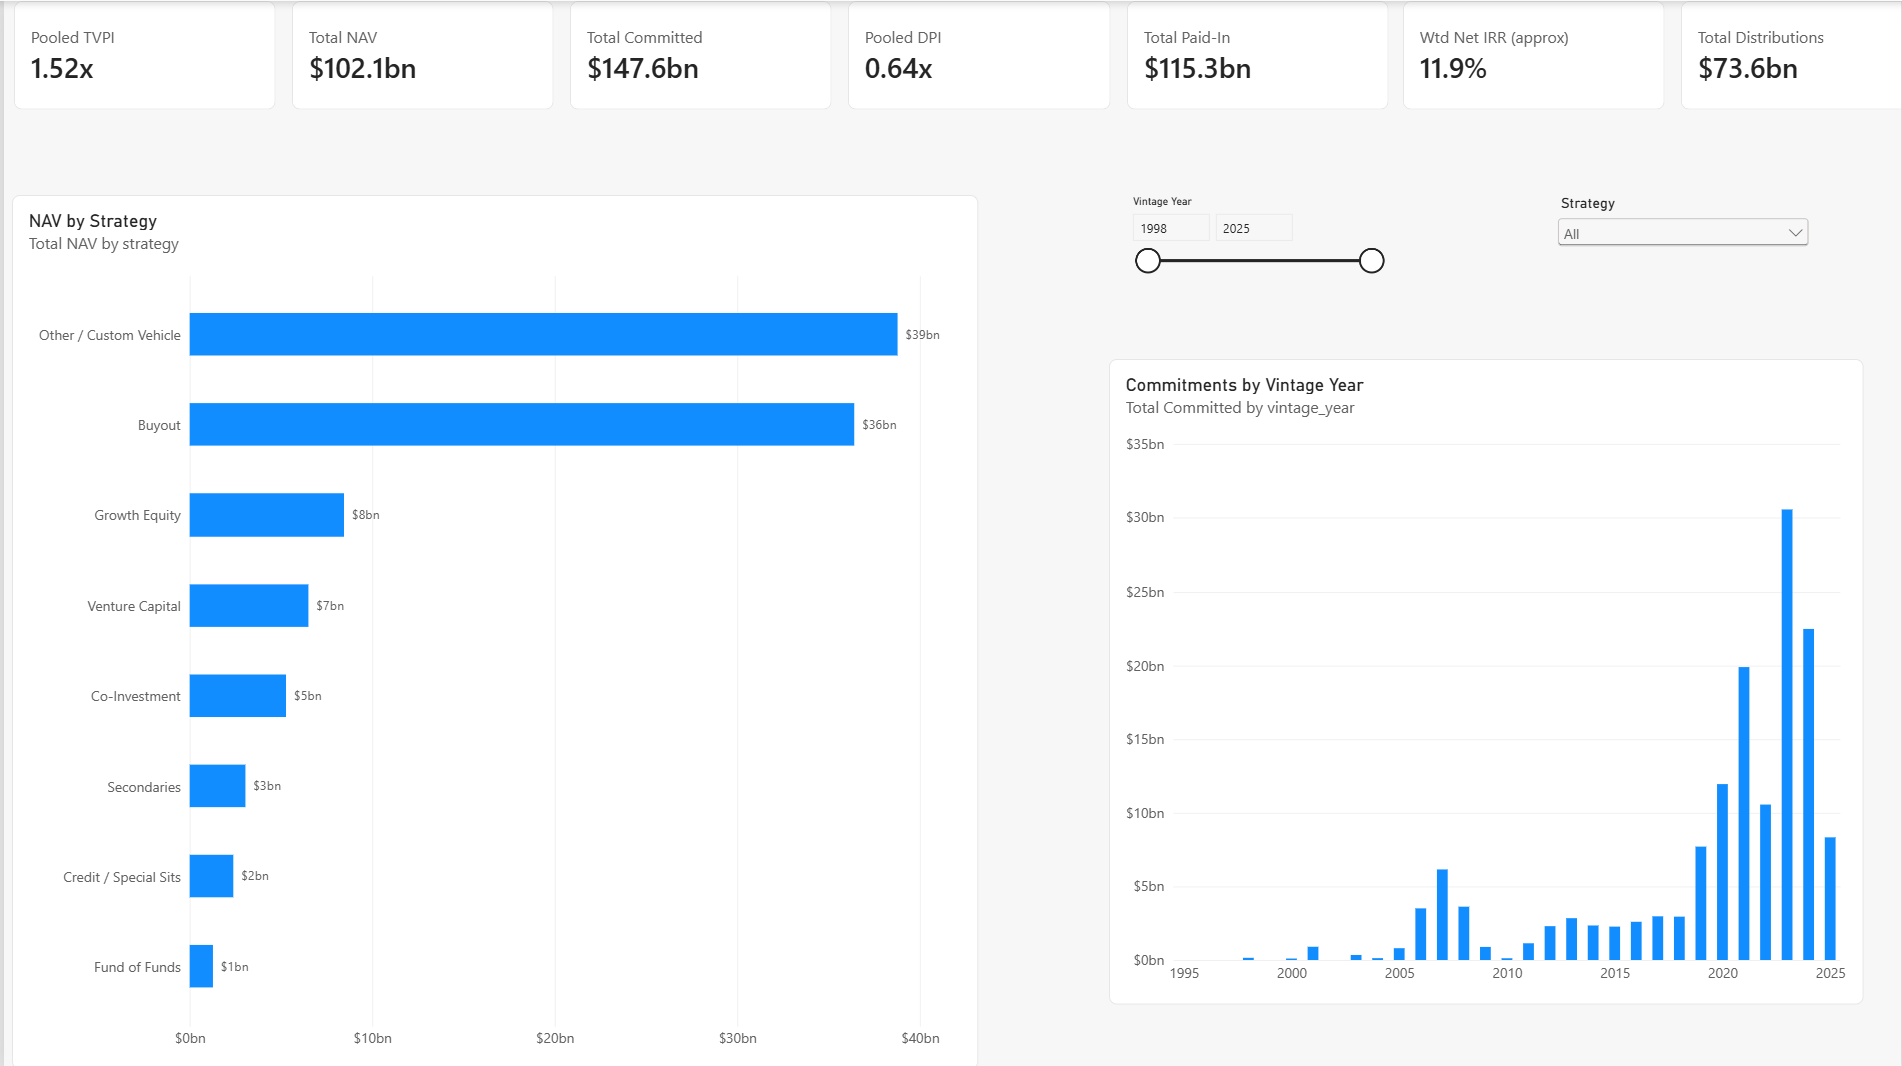

The page's visual inventory and layout, read from the dashboard file:
{"tool":"powerbi","page":{"name":"Overview","canvas":[1920,1080],"ordinal":0},"visuals":[{"type":"cardVisual","fields":{"Data":["calpers_funds_clean.Pooled TVPI"]},"box":[10,0,265,110],"z":0},{"type":"cardVisual","fields":{"Data":["calpers_funds_clean.Total Committed"]},"box":[573.7,0,265,110],"z":1},{"type":"cardVisual","fields":{"Data":["calpers_funds_clean.Total Paid-In"]},"box":[1136.1,0,265,110],"z":2},{"type":"cardVisual","fields":{"Data":["calpers_funds_clean.Total Distributions"]},"box":[1698.5,0,265,110],"z":3},{"type":"cardVisual","fields":{"Data":["calpers_funds_clean.Total NAV"]},"box":[292.5,0,265,110],"z":4},{"type":"cardVisual","fields":{"Data":["calpers_funds_clean.Pooled DPI"]},"box":[854.9,0,265,110],"z":5},{"type":"cardVisual","fields":{"Data":["calpers_funds_clean.Wtd Net IRR (approx)"]},"box":[1417.3,0,265,110],"z":6},{"type":"clusteredBarChart","title":"NAV by Strategy","fields":{"Category":["calpers_funds_clean.strategy"],"Y":["calpers_funds_clean.Total NAV"]},"box":[9.1,195.6,978.2,884.9],"z":7},{"type":"slicer","fields":{"Values":["calpers_funds_clean.vintage_year"]},"box":[1135.2,195.6,266.2,100.1],"z":8},{"type":"slicer","fields":{"Values":["calpers_funds_clean.strategy"]},"box":[1567.4,195.6,263.9,100.1],"z":9},{"type":"columnChart","title":"Commitments by Vintage Year","fields":{"Category":["calpers_funds_clean.vintage_year"],"Y":["calpers_funds_clean.Total Committed"]},"box":[1119.2,361.7,764.4,652.9],"z":10}]}

Visuals, with their boxes in screenshot pixels (x1, y1, x2, y2), scaled from the page's 1920x1080 canvas onto the 1902x1066 screenshot:
cardVisual - calpers_funds_clean.Pooled TVPI: 10,0,272,109
cardVisual - calpers_funds_clean.Total Committed: 568,0,831,109
cardVisual - calpers_funds_clean.Total Paid-In: 1125,0,1388,109
cardVisual - calpers_funds_clean.Total Distributions: 1683,0,1901,109
cardVisual - calpers_funds_clean.Total NAV: 290,0,552,109
cardVisual - calpers_funds_clean.Pooled DPI: 847,0,1109,109
cardVisual - calpers_funds_clean.Wtd Net IRR (approx): 1404,0,1667,109
"NAV by Strategy" clusteredBarChart: 9,193,978,1065
slicer - calpers_funds_clean.vintage_year: 1125,193,1388,292
slicer - calpers_funds_clean.strategy: 1553,193,1814,292
"Commitments by Vintage Year" columnChart: 1109,357,1866,1001
